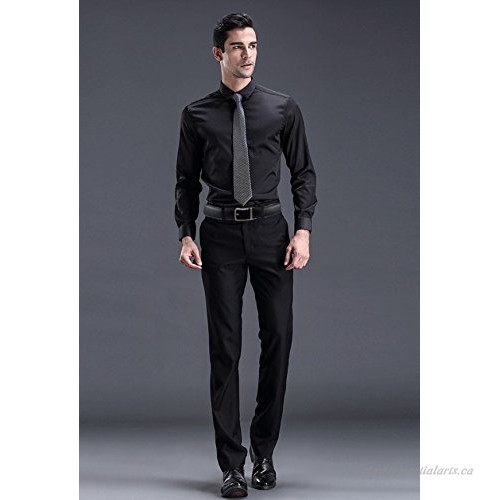F_belt: (198, 202, 289, 224)
F_dress pants: (197, 222, 300, 459)
F_shirt: (173, 78, 324, 237)
F_tie: (227, 92, 256, 202)
